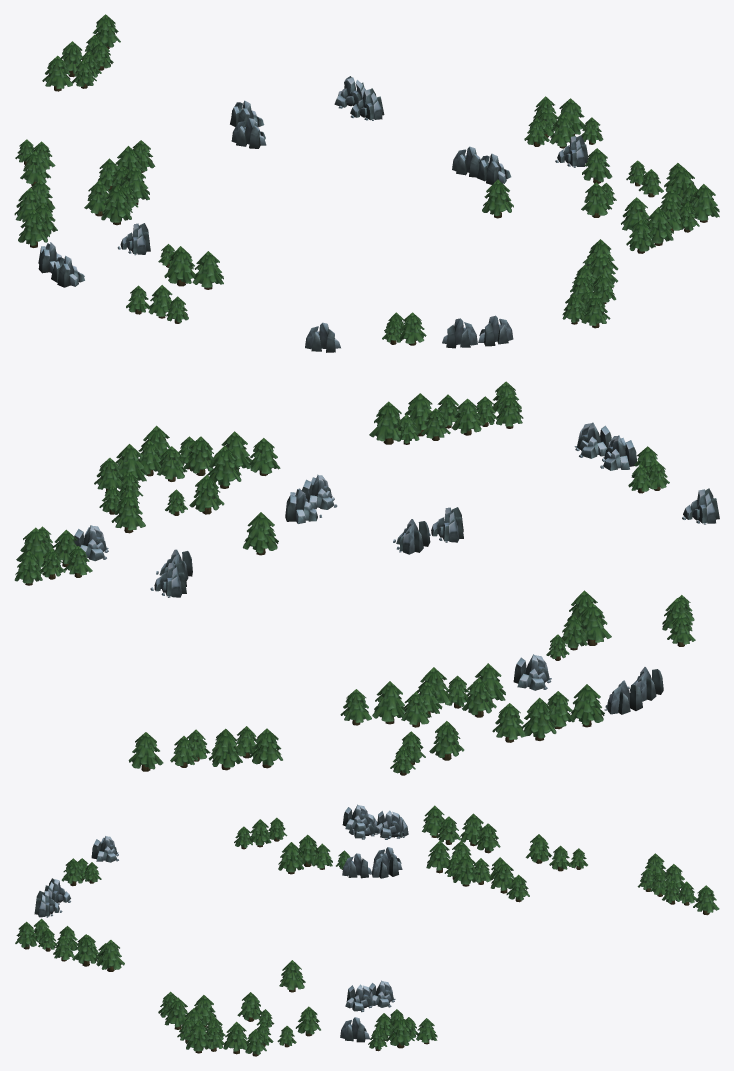
Rendered from Scripted.fbx.
3 views of the same model, one above another, from view 1: azimuth 30°, elevation 25°; view 2: azimuth 150°, elevation 25°; view 3: azimuth 270°, elevation 25° (orthographic). The views are drawn at different scales.
Visible parts, largest first — view 1: Pine_Tree63, Pine_Tree46, Pine_Tree4, Pine_Tree23, Pine_Tree60, Mine_able_Stone, Mine_able_Stone20, Mine_able_Stone29, Mine_able_Stone18, Mine_able_Stone21, Mine_able_Stone27, Pine_Tree16 (+18 smaller); view 2: Mine_able_Stone26, Pine_Tree23, Pine_Tree60, Pine_Tree45, Mine_able_Stone20, Mine_able_Stone18, Pine_Tree53, Pine_Tree14, Pine_Tree25, Mine_able_Stone28, Mine_able_Stone29, Mine_able_Stone24 (+26 smaller); view 3: Mine_able_Stone24, Mine_able_Stone17, Mine_able_Stone, Pine_Tree25, Mine_able_Stone29, Pine_Tree5, Pine_Tree4, Pine_Tree23, Pine_Tree27, Pine_Tree51, Pine_Tree16, Mine_able_Stone23 (+18 smaller).
Boxes of the visible parts, <box> form: Pine_Tree63: <box>164,247,195,286</box>; Pine_Tree46: <box>101,186,132,225</box>; Pine_Tree4: <box>192,251,223,289</box>; Pine_Tree23: <box>482,179,513,218</box>; Pine_Tree60: <box>18,209,49,247</box>; Mine_able_Stone: <box>231,118,266,148</box>; Mine_able_Stone20: <box>478,315,513,346</box>; Mine_able_Stone29: <box>305,322,340,352</box>; Mine_able_Stone18: <box>442,318,477,348</box>; Mine_able_Stone21: <box>350,88,384,120</box>; Mine_able_Stone27: <box>51,255,84,287</box>; Pine_Tree16: <box>690,184,719,222</box>; Mine_able_Stone26: <box>513,654,551,690</box>; Pine_Tree23: <box>243,512,278,555</box>; Pine_Tree60: <box>570,684,604,727</box>; Pine_Tree45: <box>522,697,556,740</box>; Mine_able_Stone20: <box>574,422,611,458</box>; Mine_able_Stone18: <box>600,435,636,470</box>; Pine_Tree53: <box>372,681,405,724</box>; Pine_Tree14: <box>207,445,241,488</box>; Pine_Tree25: <box>369,401,401,444</box>; Mine_able_Stone28: <box>604,680,642,714</box>; Mine_able_Stone29: <box>682,488,719,524</box>; Mine_able_Stone24: <box>393,519,430,554</box>; Mine_able_Stone24: <box>374,810,403,838</box>; Mine_able_Stone17: <box>345,984,374,1012</box>; Mine_able_Stone: <box>342,804,371,831</box>; Pine_Tree25: <box>96,940,124,971</box>; Mine_able_Stone29: <box>91,836,118,862</box>; Pine_Tree5: <box>386,1016,414,1048</box>; Pine_Tree4: <box>278,842,303,874</box>; Pine_Tree23: <box>279,960,305,992</box>; Pine_Tree27: <box>72,934,98,966</box>; Pine_Tree51: <box>453,854,477,886</box>; Pine_Tree16: <box>186,1021,210,1053</box>; Mine_able_Stone23: <box>340,1017,369,1042</box>.
Bounding box in the file's own units: 217 × 44.12 × 279.
